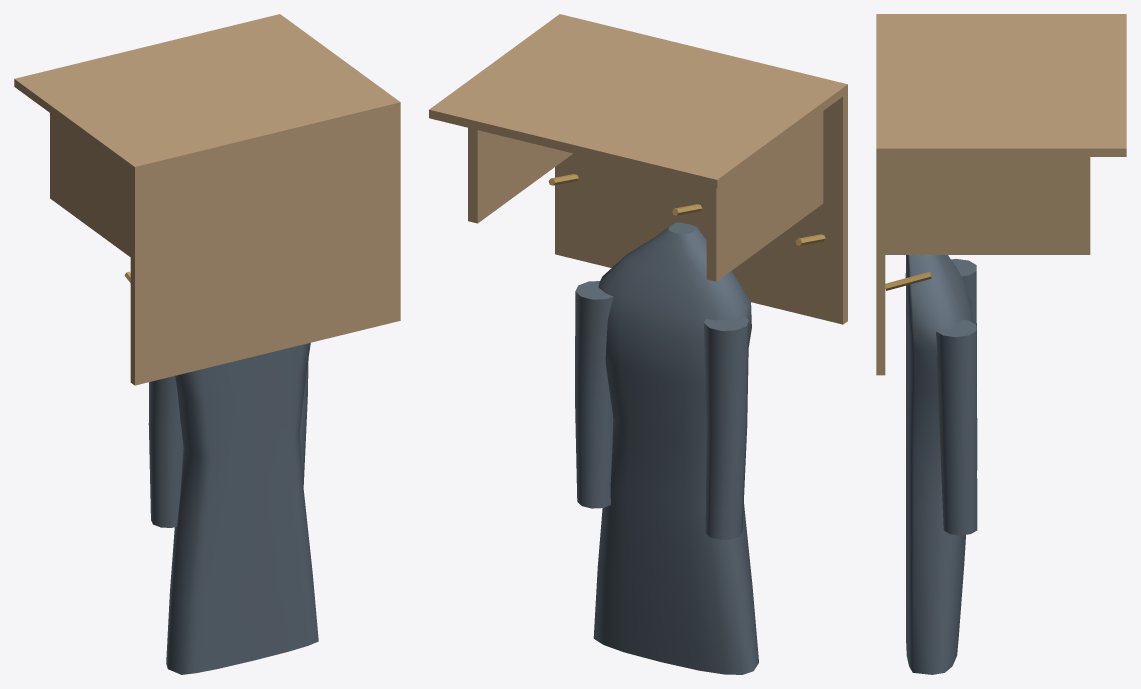
The model's file is parametric-wall-coat-rack-crew-0700x0550x1950.glb.
The picture shows the model from 3 angles, left to right: view 1: azimuth 30°, elevation 25°; view 2: azimuth 150°, elevation 25°; view 3: azimuth 270°, elevation 25°; orthographic projection. The views are drawn at different scales.
Visible parts, largest first — view 1: backboard, coat:0, hat-shelf, bracket:-1, coat-sleeve:0:-1; view 2: coat:0, hat-shelf, backboard, bracket:-1, coat-sleeve:0:-1, coat-sleeve:0:1, bracket:1; view 3: hat-shelf, bracket:1, coat:0, coat-sleeve:0:1, backboard, coat-sleeve:0:-1.
Boxes of the visible parts, box(x1,y1,x2,y2) form: backboard: box(130, 110, 400, 385); coat:0: box(166, 342, 318, 674); hat-shelf: box(14, 14, 400, 174); bracket:-1: box(50, 113, 130, 256); coat-sleeve:0:-1: box(148, 376, 183, 527); coat:0: box(593, 222, 758, 674); hat-shelf: box(429, 14, 847, 188); backboard: box(555, 93, 847, 324); bracket:-1: box(706, 111, 823, 281); coat-sleeve:0:-1: box(703, 315, 748, 539); coat-sleeve:0:1: box(575, 281, 613, 508); bracket:1: box(468, 128, 572, 223); hat-shelf: box(876, 14, 1126, 156); bracket:1: box(885, 157, 1090, 254); coat:0: box(906, 255, 976, 674); coat-sleeve:0:1: box(936, 319, 977, 535); backboard: box(876, 157, 885, 375); coat-sleeve:0:-1: box(951, 259, 977, 470).
Size of the model in its own units: 0.7 by 1.35 by 0.55.
